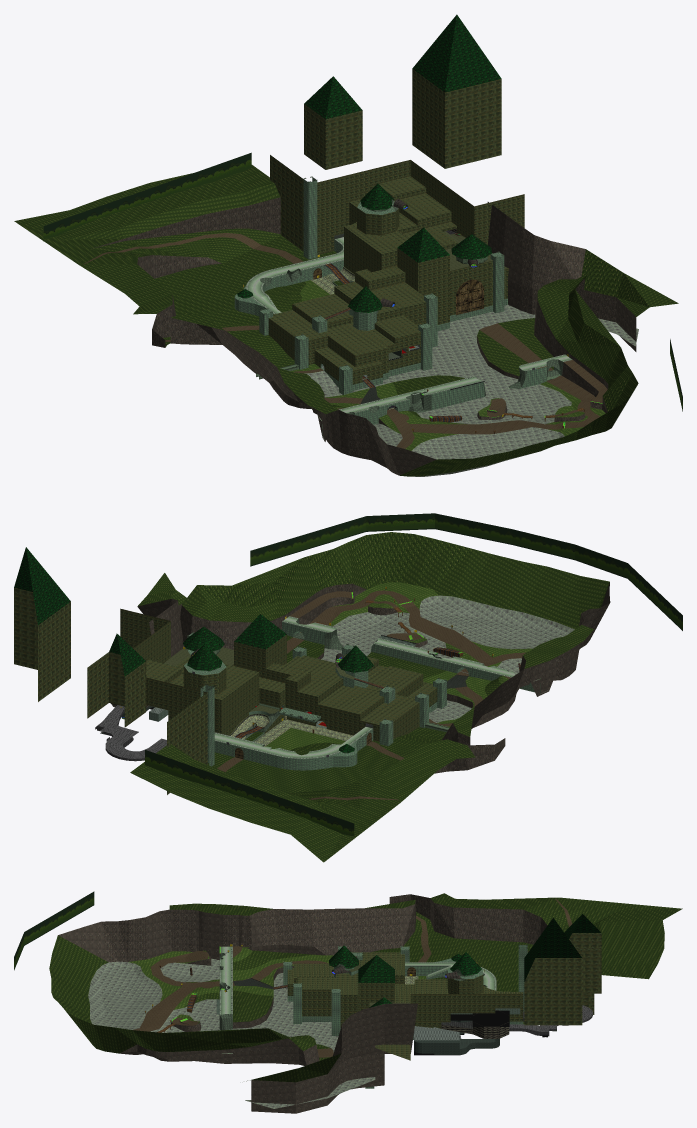
The picture shows the model from 3 angles, top to bottom: view 1: azimuth 30°, elevation 25°; view 2: azimuth 150°, elevation 25°; view 3: azimuth 270°, elevation 25°; orthographic projection. The views are drawn at different scales.
Visible parts, largest first — view 1: Gloomy_Castle-SKP-ExteriorWall.001, Gloomy_Castle-SKP-OOB.001, Gloomy_Castle-SKP-Cliffwood.001, Gloomy_Castle-SKP-Swamp.001, Gloomy_Castle-SKP-WallWall.001, Gloomy_Castle-SKP-RoofTile.001, Gloomy_Castle-SKP-DirtPath.001, Gloomy_Castle-SKP-BushWall.001, Gloomy_Castle-SKP-Offroad.001, Gloomy_Castle-SKP-WallTop.001, Gloomy_Castle-SKP-Rubble.001, Gloomy_Castle-SKP-Door.001; view 2: Gloomy_Castle-SKP-OOB.001, Gloomy_Castle-SKP-ExteriorWall.001, Gloomy_Castle-SKP-BushWall.001, Gloomy_Castle-SKP-Cliffwood.001, Gloomy_Castle-SKP-Swamp.001, Gloomy_Castle-SKP-WallWall.001, Gloomy_Castle-SKP-RoofTile.001, Gloomy_Castle-SKP-DirtPath.001, Gloomy_Castle-SKP-Offroad.001, Gloomy_Castle-SKP-WallTop.001, Gloomy_Castle-SKP-DungeonCeiling.001, Gloomy_Castle-SKP-Walkway.001 (+3 smaller); view 3: Gloomy_Castle-SKP-Cliffwood.001, Gloomy_Castle-SKP-OOB.001, Gloomy_Castle-SKP-ExteriorWall.001, Gloomy_Castle-SKP-Swamp.001, Gloomy_Castle-SKP-RoofTile.001, Gloomy_Castle-SKP-DirtPath.001, Gloomy_Castle-SKP-WallWall.001, Gloomy_Castle-SKP-Offroad.001, Gloomy_Castle-SKP-WallTop.001, Gloomy_Castle-SKP-BushWall.001, Gloomy_Castle-SKP-CaveWall.001, Gloomy_Castle-SKP-Black.001 (+4 smaller).
Boxes of the visible parts, x1,y1,x2,y2 form: Gloomy_Castle-SKP-ExteriorWall.001: [268, 69, 524, 384]; Gloomy_Castle-SKP-OOB.001: [14, 165, 678, 476]; Gloomy_Castle-SKP-Cliffwood.001: [91, 197, 636, 475]; Gloomy_Castle-SKP-Swamp.001: [304, 304, 638, 476]; Gloomy_Castle-SKP-WallWall.001: [234, 177, 561, 436]; Gloomy_Castle-SKP-RoofTile.001: [237, 14, 501, 312]; Gloomy_Castle-SKP-DirtPath.001: [83, 233, 607, 448]; Gloomy_Castle-SKP-BushWall.001: [43, 152, 682, 411]; Gloomy_Castle-SKP-Offroad.001: [290, 280, 605, 450]; Gloomy_Castle-SKP-WallTop.001: [245, 237, 572, 420]; Gloomy_Castle-SKP-Rubble.001: [260, 199, 563, 414]; Gloomy_Castle-SKP-Door.001: [313, 268, 483, 315]; Gloomy_Castle-SKP-OOB.001: [130, 532, 609, 862]; Gloomy_Castle-SKP-ExteriorWall.001: [14, 587, 437, 794]; Gloomy_Castle-SKP-BushWall.001: [145, 513, 682, 836]; Gloomy_Castle-SKP-Cliffwood.001: [137, 582, 610, 773]; Gloomy_Castle-SKP-Swamp.001: [321, 595, 574, 722]; Gloomy_Castle-SKP-WallWall.001: [184, 621, 540, 770]; Gloomy_Castle-SKP-RoofTile.001: [14, 547, 373, 752]; Gloomy_Castle-SKP-DirtPath.001: [217, 590, 525, 800]; Gloomy_Castle-SKP-Offroad.001: [265, 582, 532, 750]; Gloomy_Castle-SKP-WallTop.001: [214, 616, 539, 758]; Gloomy_Castle-SKP-DungeonCeiling.001: [97, 623, 417, 758]; Gloomy_Castle-SKP-Walkway.001: [231, 715, 352, 746]; Gloomy_Castle-SKP-Cliffwood.001: [58, 894, 585, 1113]; Gloomy_Castle-SKP-OOB.001: [49, 893, 682, 1082]; Gloomy_Castle-SKP-ExteriorWall.001: [287, 933, 601, 1060]; Gloomy_Castle-SKP-Swamp.001: [88, 958, 375, 1108]; Gloomy_Castle-SKP-RoofTile.001: [329, 914, 600, 1007]; Gloomy_Castle-SKP-DirtPath.001: [133, 898, 572, 1057]; Gloomy_Castle-SKP-WallWall.001: [283, 945, 527, 1088]; Gloomy_Castle-SKP-Offroad.001: [128, 946, 426, 1023]; Gloomy_Castle-SKP-WallTop.001: [219, 946, 496, 1053]; Gloomy_Castle-SKP-BushWall.001: [14, 891, 94, 970]; Gloomy_Castle-SKP-CaveWall.001: [414, 1020, 499, 1054]; Gloomy_Castle-SKP-Black.001: [414, 1010, 568, 1055].
Bounding box in the file's own units: 179760 × 90154 × 270423.
42 materials, 42 textured.
